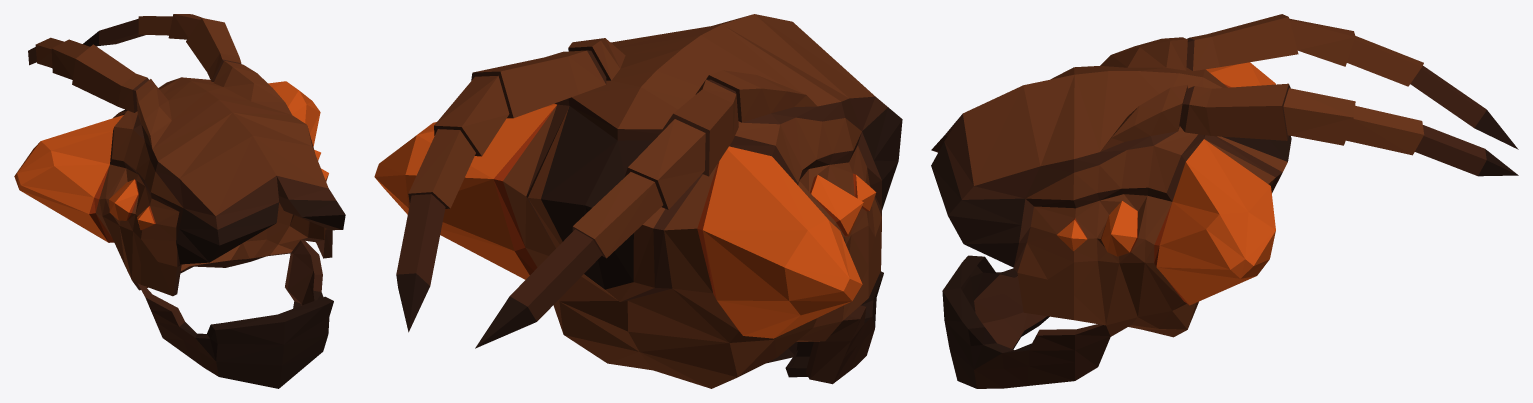
Rendered from ChitinHelmet.dae.
3 views of the same model, side by side, from view 1: azimuth 30°, elevation 25°; view 2: azimuth 150°, elevation 25°; view 3: azimuth 270°, elevation 25° (orthographic). The views are drawn at different scales.
Visible parts, largest first — view 1: ChitinHelmet; view 2: ChitinHelmet; view 3: ChitinHelmet.
Boxes of the visible parts, box(x1,y1,x2,y2) form: ChitinHelmet: box(14, 14, 345, 388); ChitinHelmet: box(374, 14, 902, 388); ChitinHelmet: box(931, 14, 1518, 388).
Bounding box in the file's own units: 2.57 × 3.46 × 2.14.
